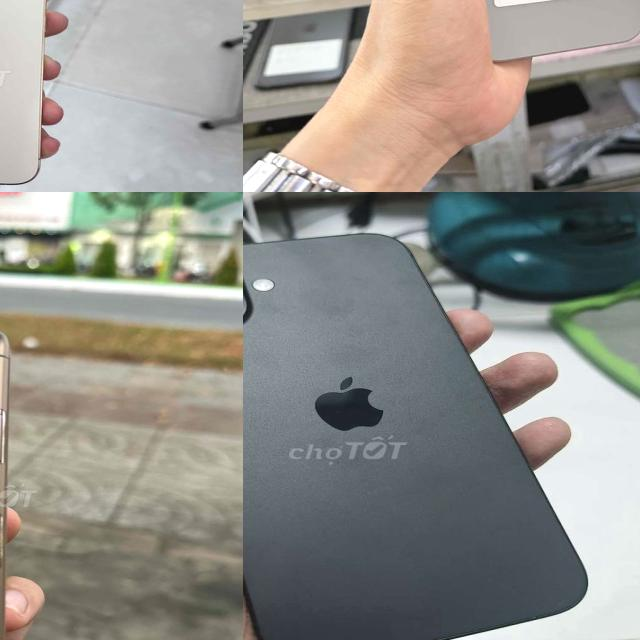gen_11: (0, 315, 52, 640)
gen_15: (0, 0, 54, 189)
gen_16: (243, 234, 586, 640)
